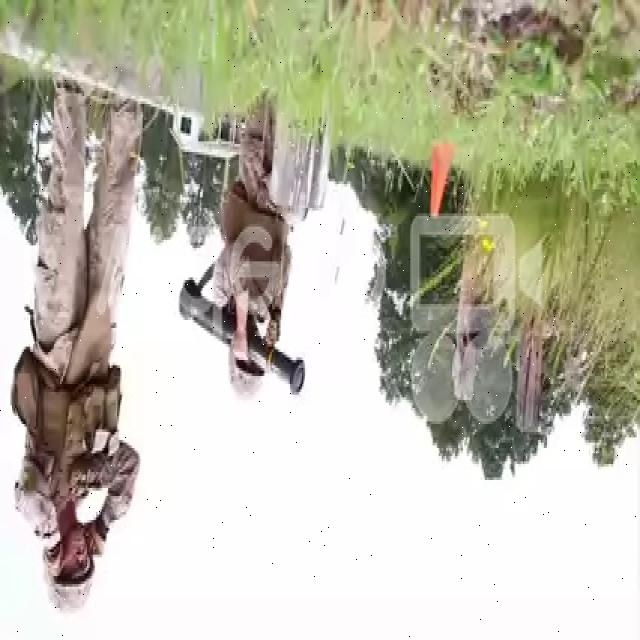bazooka: (176, 271, 309, 403)
